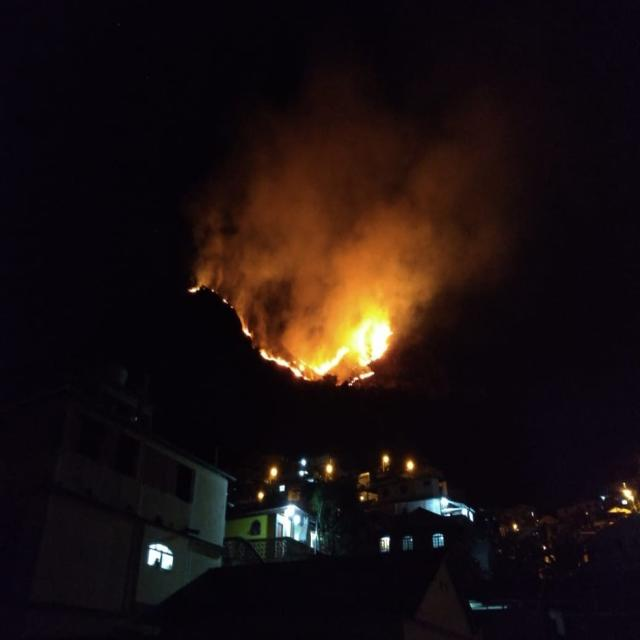fire: (346, 315, 388, 361)
smoke: (257, 150, 484, 276), (276, 276, 338, 352)
